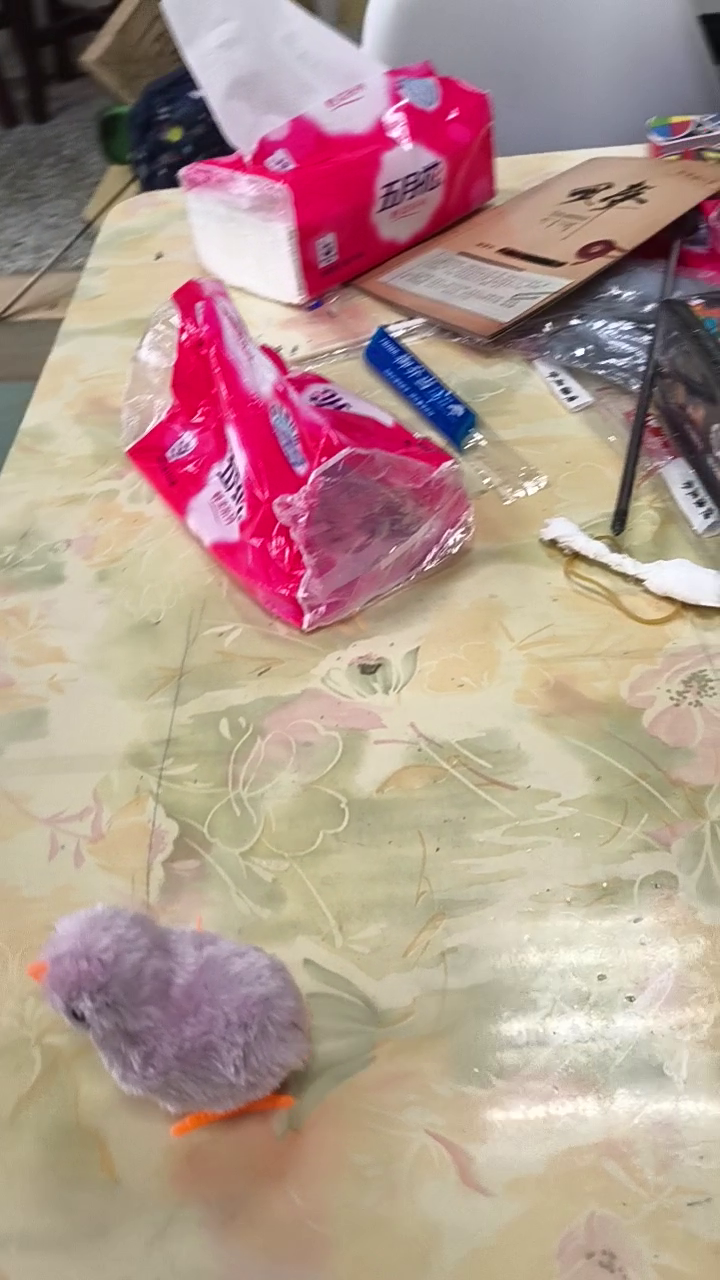pink chicken: (26, 895, 309, 1144)
